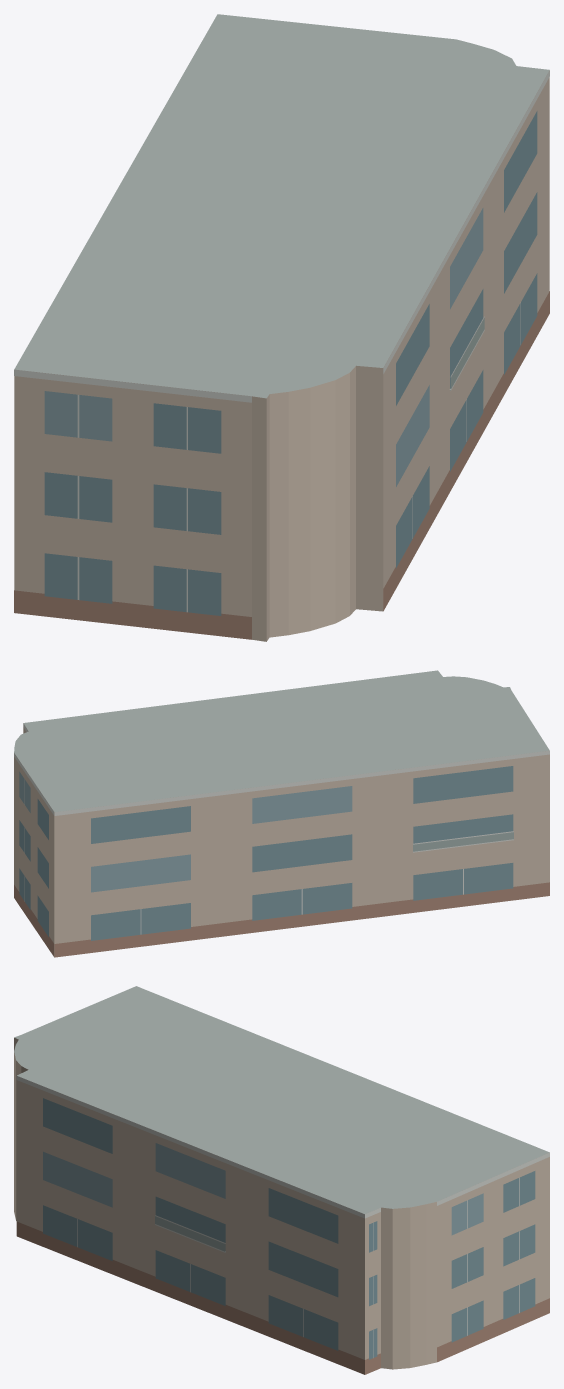
File: survey-upis-32892494.glb
The picture shows the model from 3 angles, top to bottom: view 1: azimuth 30°, elevation 25°; view 2: azimuth 150°, elevation 25°; view 3: azimuth 270°, elevation 25°; orthographic projection. The views are drawn at different scales.
Parts seen in each view (by area): view 1: survey-upis-32892494.tmp; view 2: survey-upis-32892494.tmp; view 3: survey-upis-32892494.tmp.
Boxes of the visible parts, x1=… form: survey-upis-32892494.tmp: x1=14, y1=14, x2=549, y2=641; survey-upis-32892494.tmp: x1=14, y1=670, x2=549, y2=957; survey-upis-32892494.tmp: x1=14, y1=986, x2=549, y2=1374.
Bounding box in the file's own units: 27.89 × 9.15 × 27.67.
